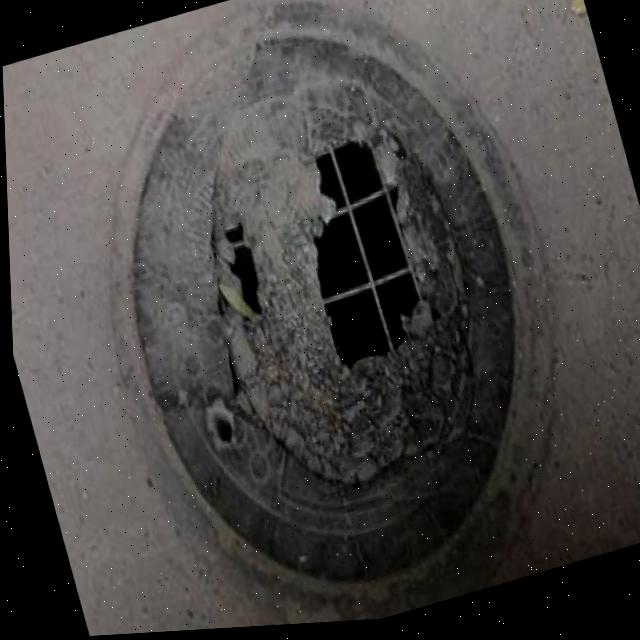manhole: (46, 0, 575, 634)
